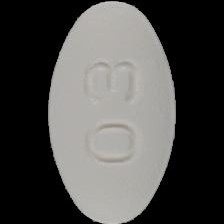33261-975: (0, 0, 224, 224)
